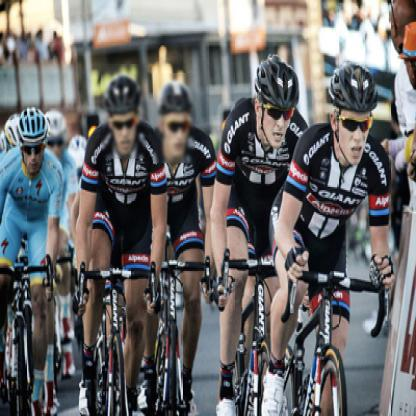Helmet: (328, 61, 382, 183), (239, 54, 298, 149), (157, 75, 197, 175), (100, 73, 143, 165), (16, 103, 53, 179)
